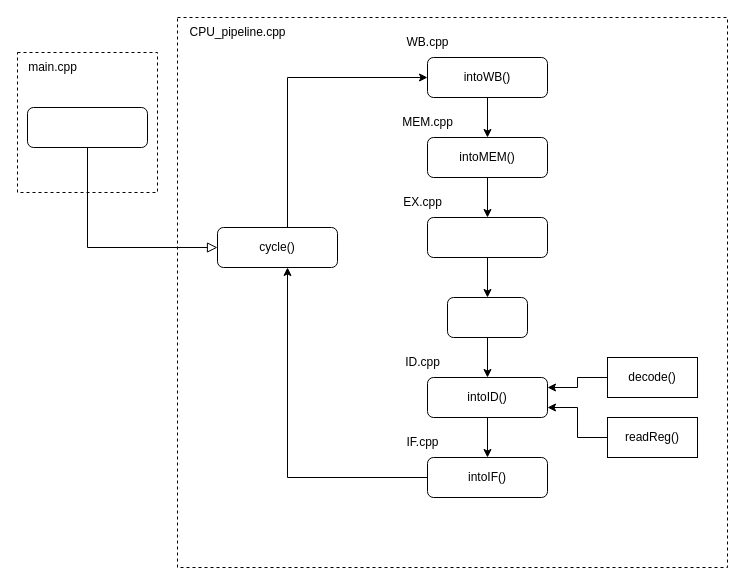
Some shapes in this 745 by 585 pixel diagram are drawn without their labels. The shapes that lost their labels are listed below. From the top down, each one's centre as x and y in pixels, then its label:
pixel 87 127: main()
pixel 487 237: intoEX()
pixel 487 317: beq()
